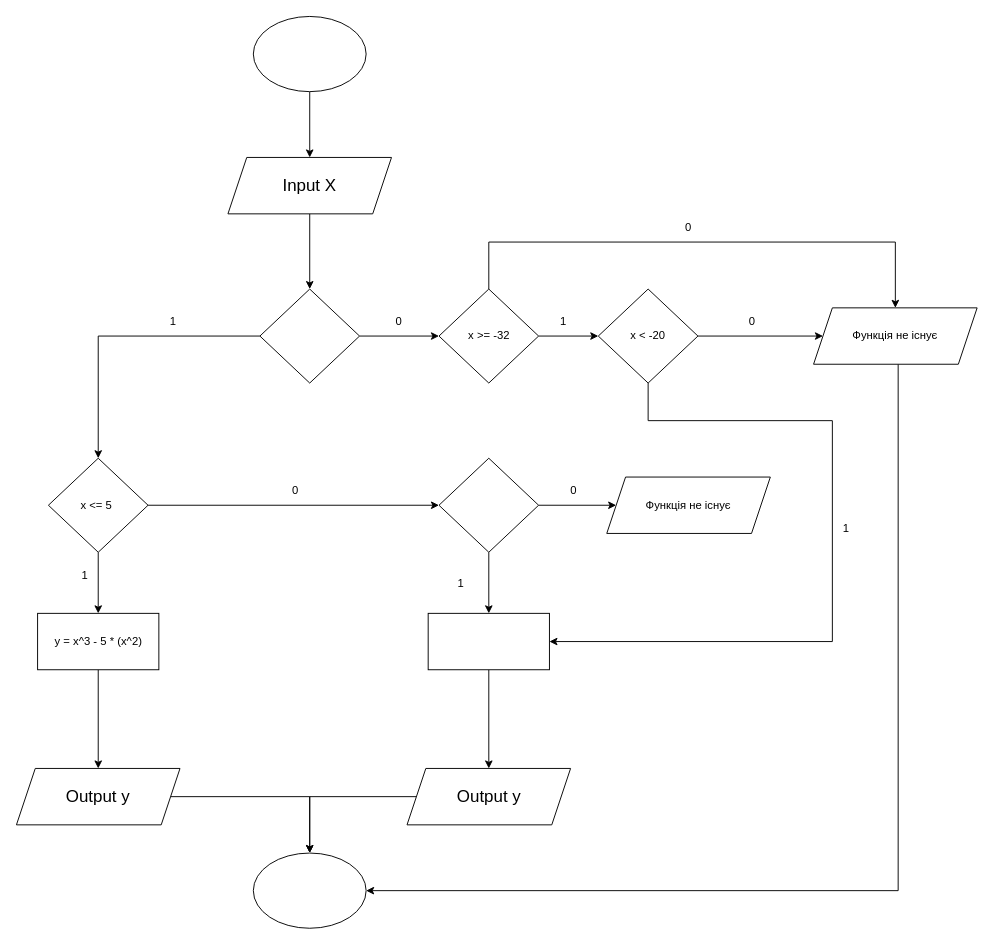
Some shapes in this 994 by 945 pixel diagram are drawn without their labels. Here are the shapes that lost their labels. From the top down, the centre of each, then its label:
(x=309, y=54): Початок
(x=309, y=335): x > 0
(x=488, y=504): x > 10
(x=488, y=641): y = x^2 - 3
(x=309, y=890): Кінець
